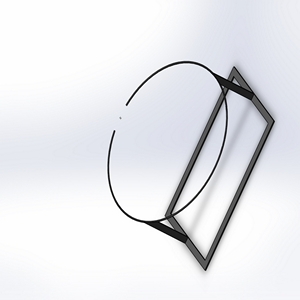circle: (104, 57, 278, 271)
